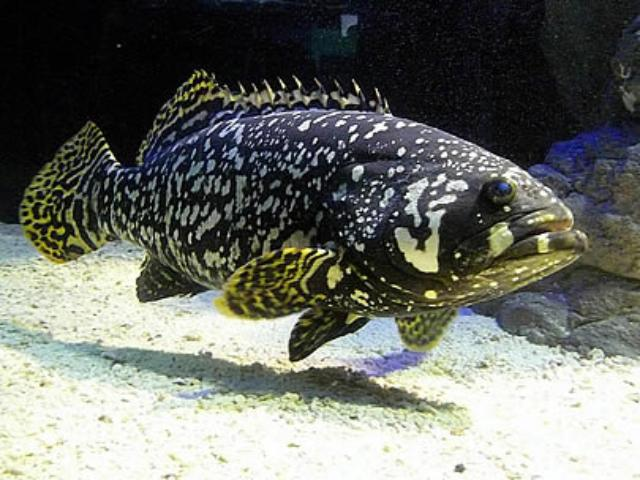Mulut: (490, 190, 620, 290)
Sirip Anal: (125, 248, 208, 320)
Sirip Dada: (213, 230, 349, 326), (391, 292, 459, 366)
Sirip Ekor: (15, 111, 125, 275)
Sirip Perut: (281, 302, 373, 376)
Sirip Punggung: (130, 61, 424, 166)
